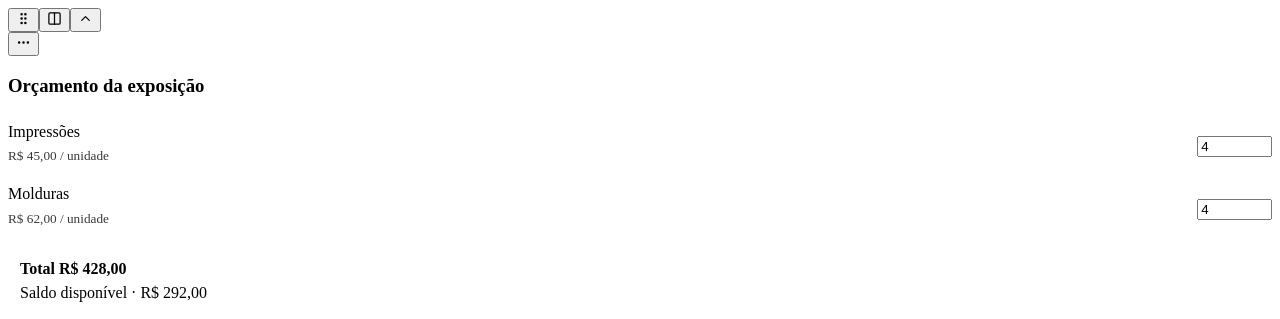
Scenario: planner quantities affect available budget and total
Step 1. Replace the text in the number field named "Quantidade de Impressões" with "20" → (1235, 147), box [1197, 136, 1272, 157]
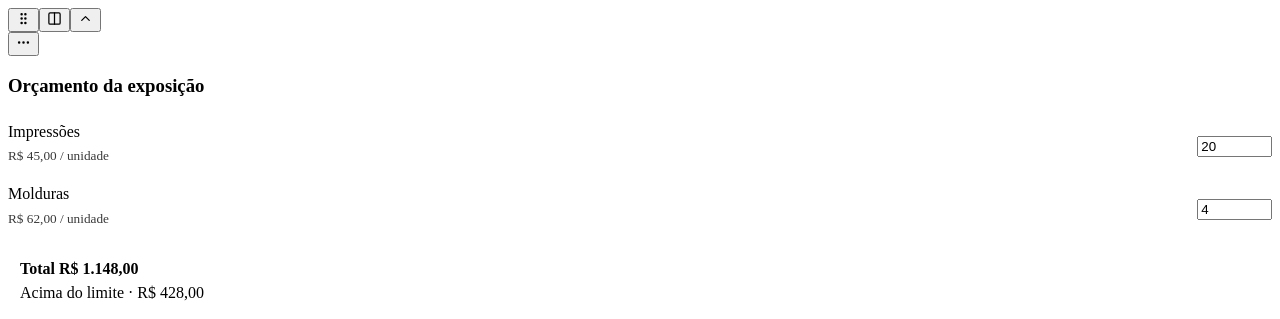
Now the text "Acima do limite · R$ 428,00" is shown, box [20, 284, 204, 301]
